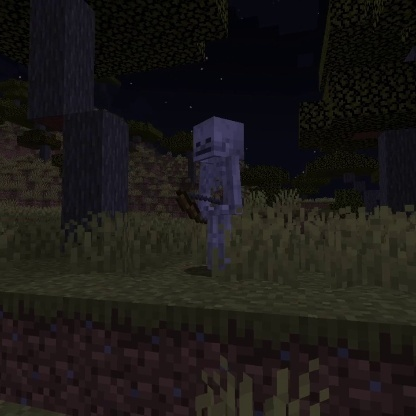skeleton: (173, 112, 250, 273)
